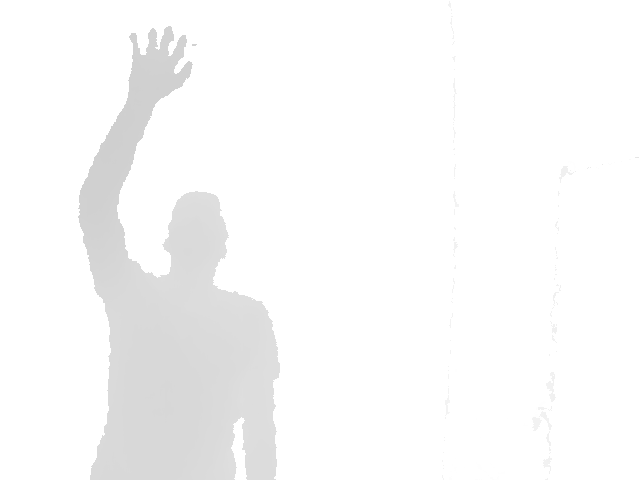hand: (124, 26, 194, 99)
head: (161, 190, 229, 271)
person: (77, 26, 281, 480)
